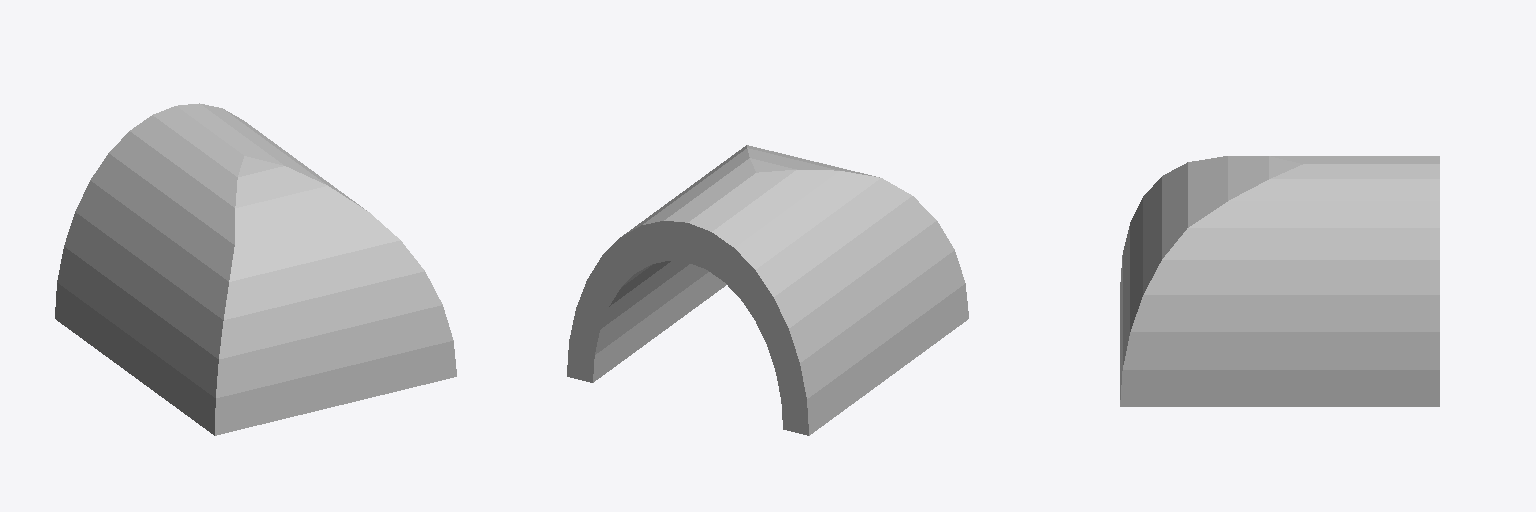
File: hole.obj
3 views of the same model, side by side, from view 1: azimuth 30°, elevation 25°; view 2: azimuth 150°, elevation 25°; view 3: azimuth 270°, elevation 25° (orthographic).
Parts seen in each view (by area): view 1: Hole_Cylinder.001; view 2: Hole_Cylinder.001; view 3: Hole_Cylinder.001.
Boxes of the visible parts, x1,y1,x2,y2 form: Hole_Cylinder.001: [55, 103, 456, 435]; Hole_Cylinder.001: [567, 145, 968, 435]; Hole_Cylinder.001: [1120, 156, 1439, 406].
Size of the model in its own units: 10.64 by 7.69 by 12.16.